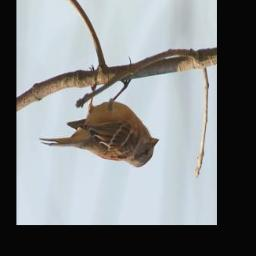Sparrow: (38, 57, 160, 169)
